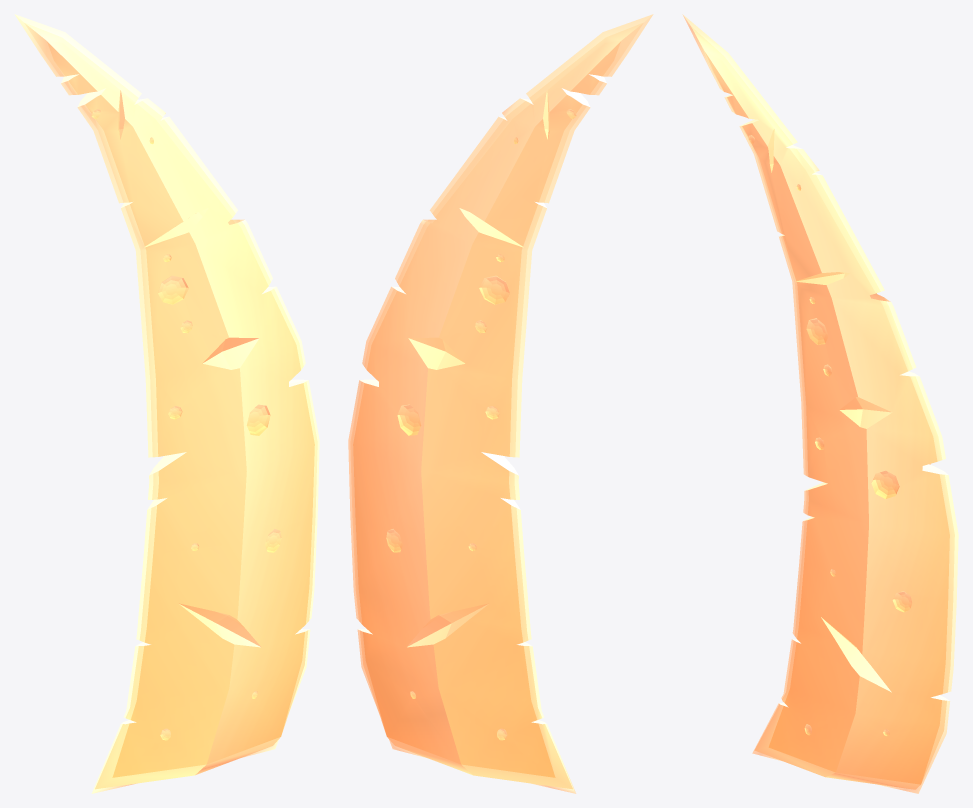
The model's file is wood_blade_bubbles_074.glb.
3 renders of one model, left to right at view 1: azimuth 30°, elevation 25°; view 2: azimuth 150°, elevation 25°; view 3: azimuth 330°, elevation 25°, orthographic. The views are drawn at different scales.
Parts seen in each view (by area): view 1: wood_blade_bubbles.074; view 2: wood_blade_bubbles.074; view 3: wood_blade_bubbles.074.
Boxes of the visible parts, x1,y1,x2,y2 form: wood_blade_bubbles.074: [14, 14, 319, 793]; wood_blade_bubbles.074: [348, 14, 653, 793]; wood_blade_bubbles.074: [682, 14, 958, 793].
Size of the model in its own units: 4.91 by 12.29 by 0.7262.
Materials: 1 (1 with a texture image).
